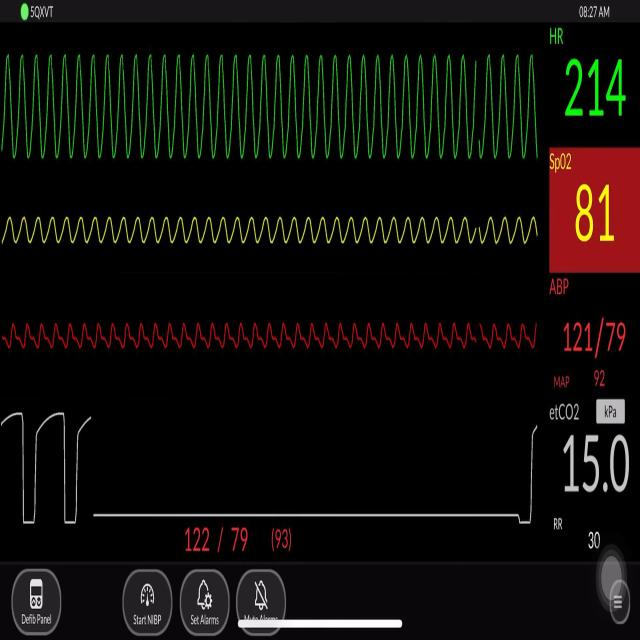danger: (10, 43, 547, 171)
